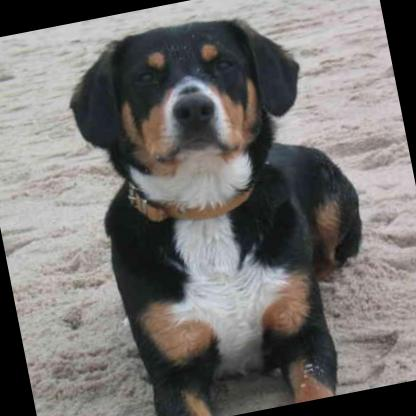EntleBucher: (56, 0, 394, 416)
